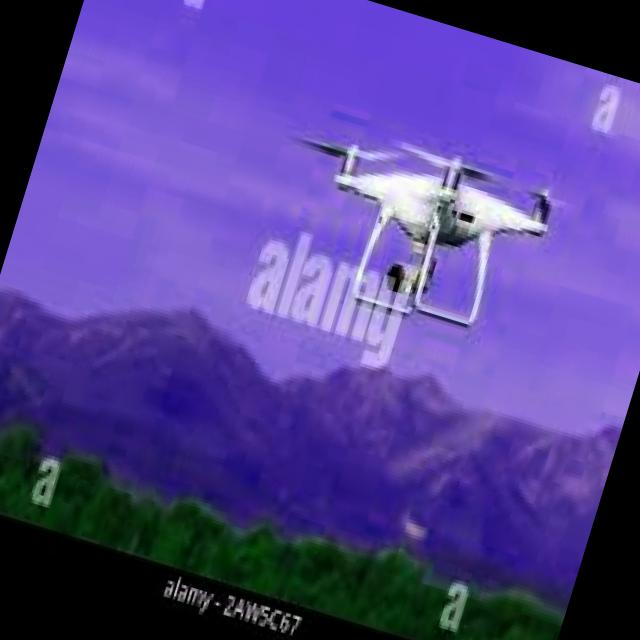drone: (253, 87, 582, 379)
